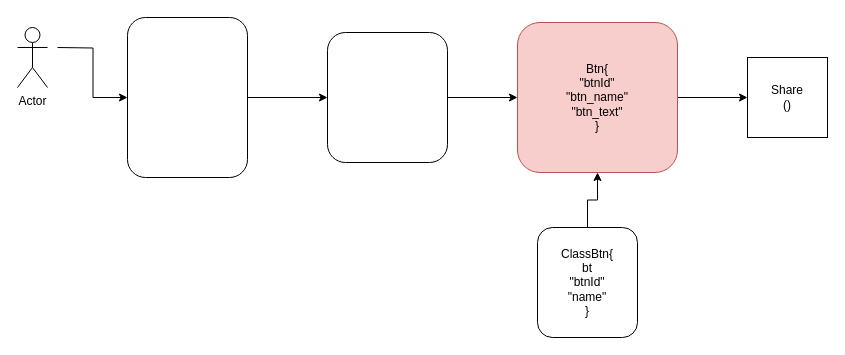
This 845x355 diagram has some shape labels left out. The shapes that lost their labels are listed below. From the top down, each one's box as (x1, y1, x2, y2) in pixels, then its label:
(126, 16, 248, 178): SAC EMAIL { "email" "name" "company" "message" "Date" }
(326, 32, 448, 162): SmartBtn SAC { "sac" "atendent" "type" "btnId "ad_message" "Atendiment_note" }
